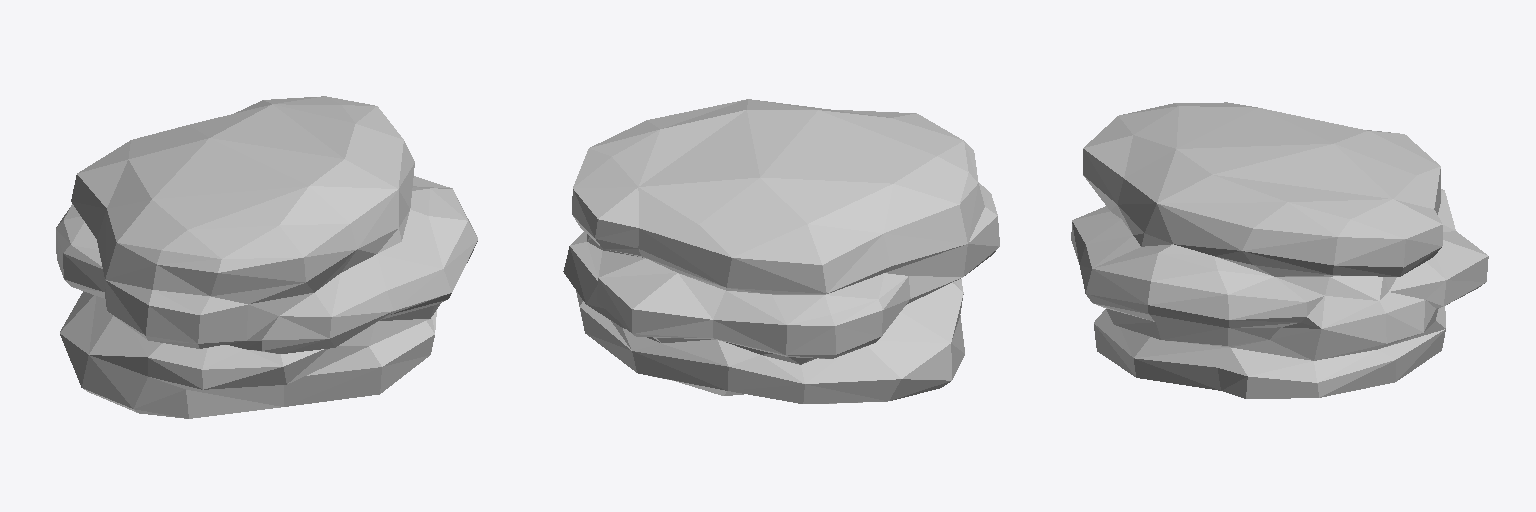
File: rocks7.obj
3 views of the same model, side by side, from view 1: azimuth 30°, elevation 25°; view 2: azimuth 150°, elevation 25°; view 3: azimuth 270°, elevation 25° (orthographic).
Visible parts, largest first — view 1: (null)_sep4; view 2: (null)_sep4; view 3: (null)_sep4.
Part boxes in pixels (x1,y1,x2,y2): (null)_sep4: (56,96,477,418); (null)_sep4: (563,99,999,403); (null)_sep4: (1071,102,1488,398).
Size of the model in its own units: 38.23 by 22.03 by 38.55.